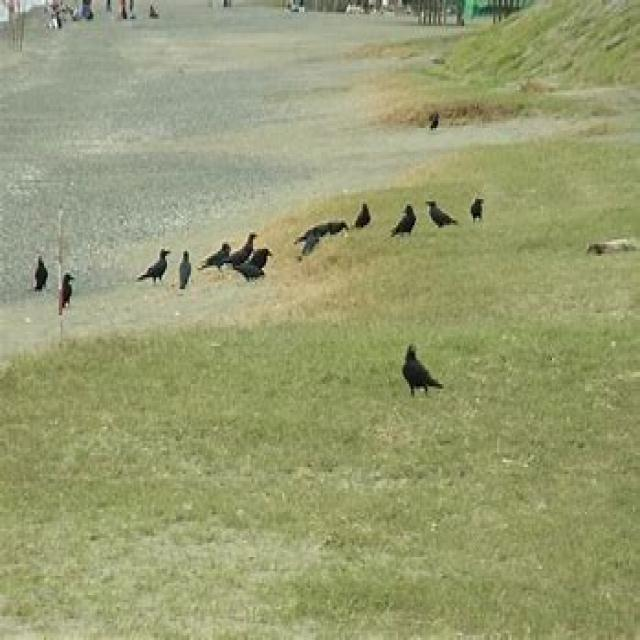crow: (398, 341, 442, 399), (294, 215, 352, 258), (139, 242, 171, 289), (242, 246, 273, 288), (427, 197, 460, 233), (202, 233, 228, 273), (390, 204, 420, 235), (232, 228, 260, 260), (54, 263, 72, 311), (30, 253, 49, 292), (179, 245, 194, 292), (470, 188, 488, 223), (357, 197, 371, 230), (423, 112, 443, 132)
